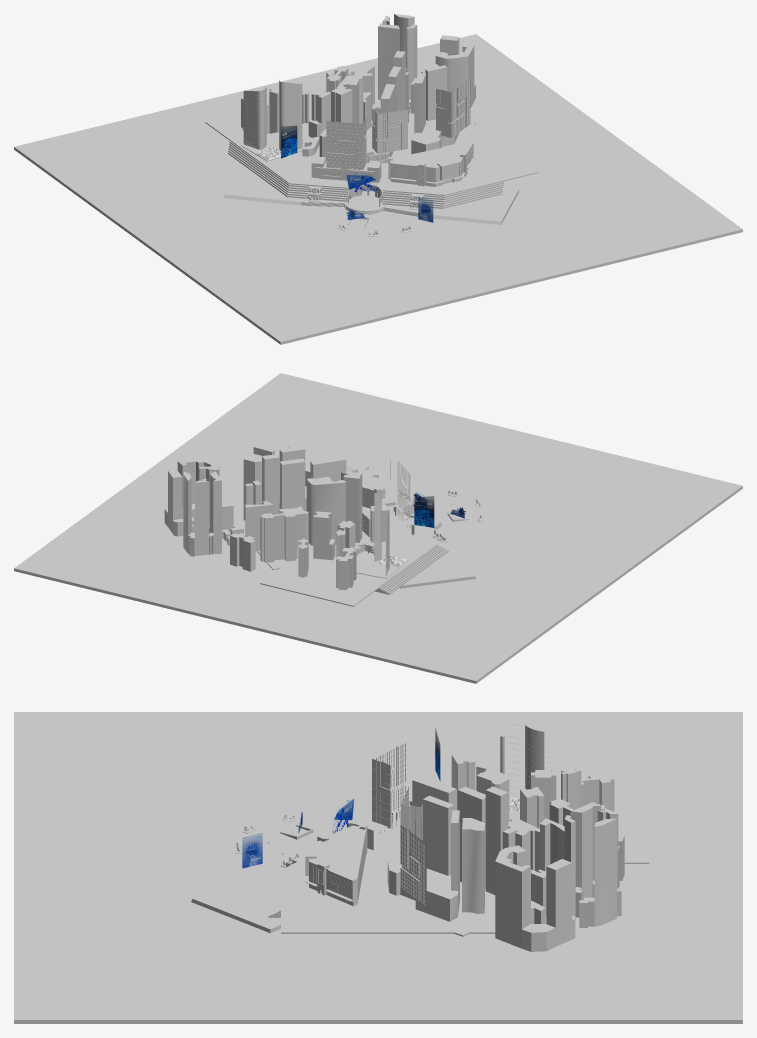
The picture shows the model from 3 angles, top to bottom: view 1: azimuth 30°, elevation 25°; view 2: azimuth 150°, elevation 25°; view 3: azimuth 270°, elevation 25°; orthographic projection. The views are drawn at different scales.
Parts seen in each view (by area): view 1: 台阶, 透明房子, 大楼玻璃 (×3), 大楼外框 (×3), 主体, 平面, 玻璃; view 2: 台阶, 透明房子, 主体, 底座, 平面, 大楼外框, YS; view 3: 台阶, 透明房子, 大楼玻璃 (×3), 大楼外框 (×2), 平面, 主体, 玻璃, CG.
Part boxes in pixels (x1=…): 台阶: x1=14, y1=34, x2=742, y2=344; 透明房子: x1=241, y1=14, x2=475, y2=159; 大楼玻璃 (×3): x1=326, y1=80, x2=469, y2=169; 大楼外框 (×3): x1=326, y1=79, x2=470, y2=169; 主体: x1=243, y1=80, x2=302, y2=150; 平面: x1=391, y1=142, x2=472, y2=167; 玻璃: x1=389, y1=143, x2=473, y2=183; 台阶: x1=14, y1=373, x2=742, y2=683; 透明房子: x1=164, y1=445, x2=389, y2=589; 主体: x1=374, y1=490, x2=389, y2=575; 底座: x1=356, y1=551, x2=408, y2=578; 平面: x1=305, y1=463, x2=383, y2=508; 大楼外框: x1=381, y1=460, x2=410, y2=519; YS: x1=414, y1=496, x2=434, y2=527; 台阶: x1=14, y1=712, x2=742, y2=1023; 透明房子: x1=387, y1=752, x2=624, y2=951; 大楼玻璃 (×3): x1=372, y1=760, x2=427, y2=905; 大楼外框 (×2): x1=372, y1=743, x2=426, y2=905; 平面: x1=309, y1=826, x2=366, y2=902; 主体: x1=500, y1=725, x2=544, y2=789; 玻璃: x1=309, y1=825, x2=360, y2=905; CG: x1=242, y1=833, x2=262, y2=868.
Bounding box in the file's own units: 276 × 50.89 × 276.
Materials: 4 (4 with a texture image).
